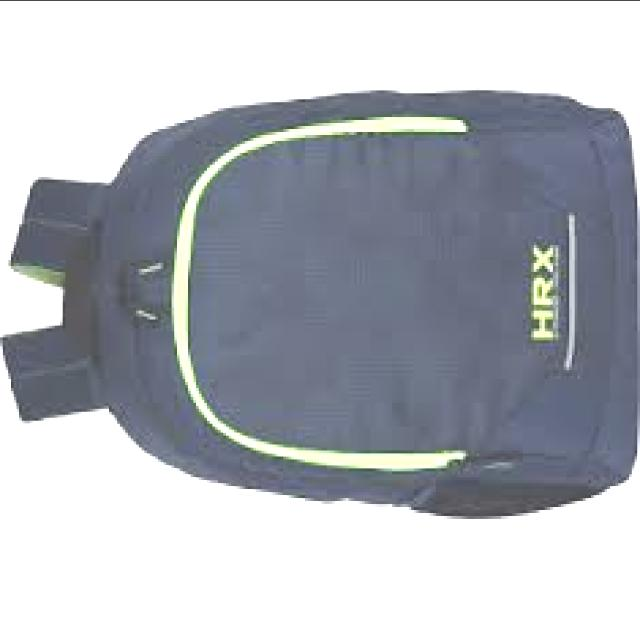backpack: (1, 88, 638, 522)
